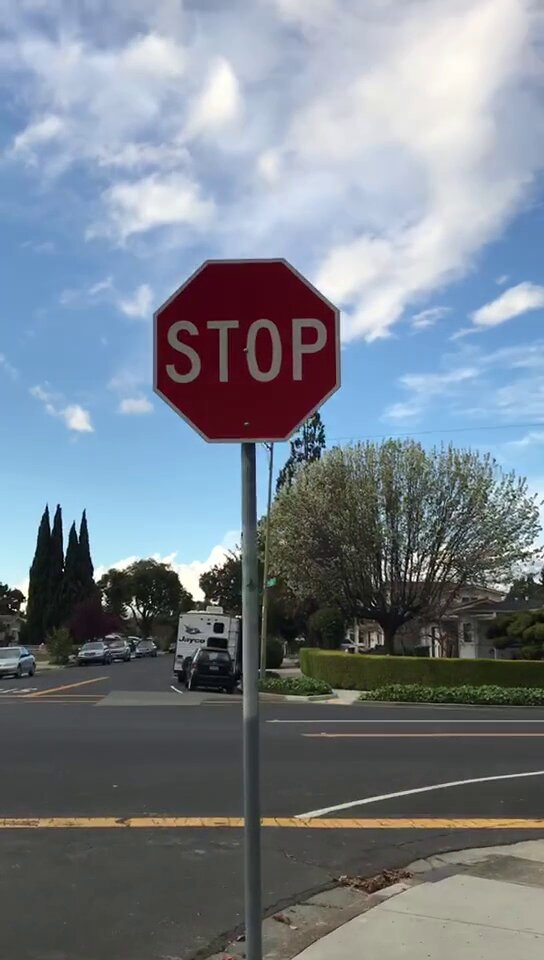stop_sign: (152, 258, 340, 441)
